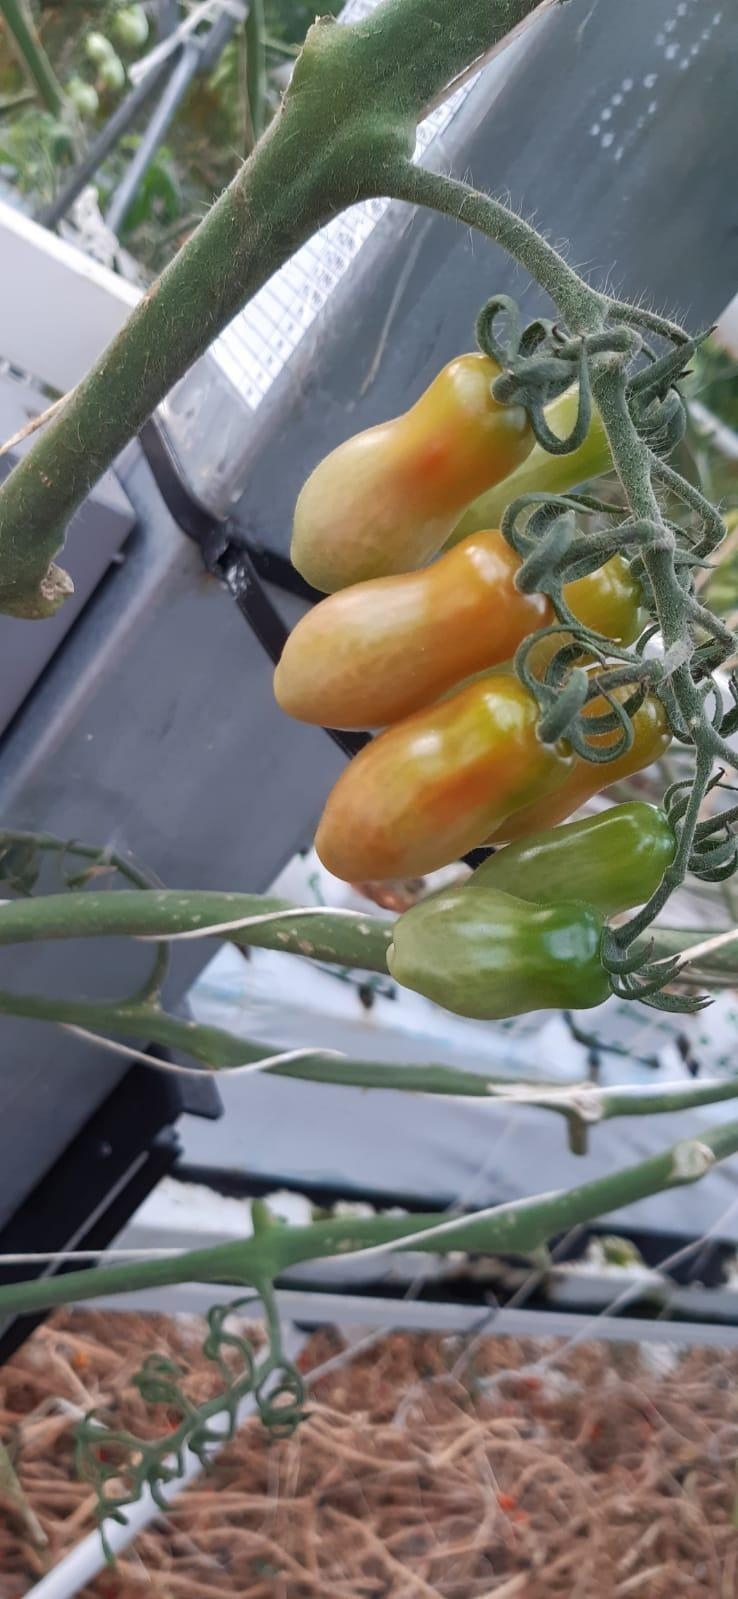Rugose stem: (0, 0, 611, 617), (0, 890, 393, 970), (593, 371, 699, 640)
Rugose tomato: (288, 352, 533, 591), (271, 530, 552, 727), (313, 674, 574, 881), (385, 885, 610, 1020), (465, 801, 675, 917)
